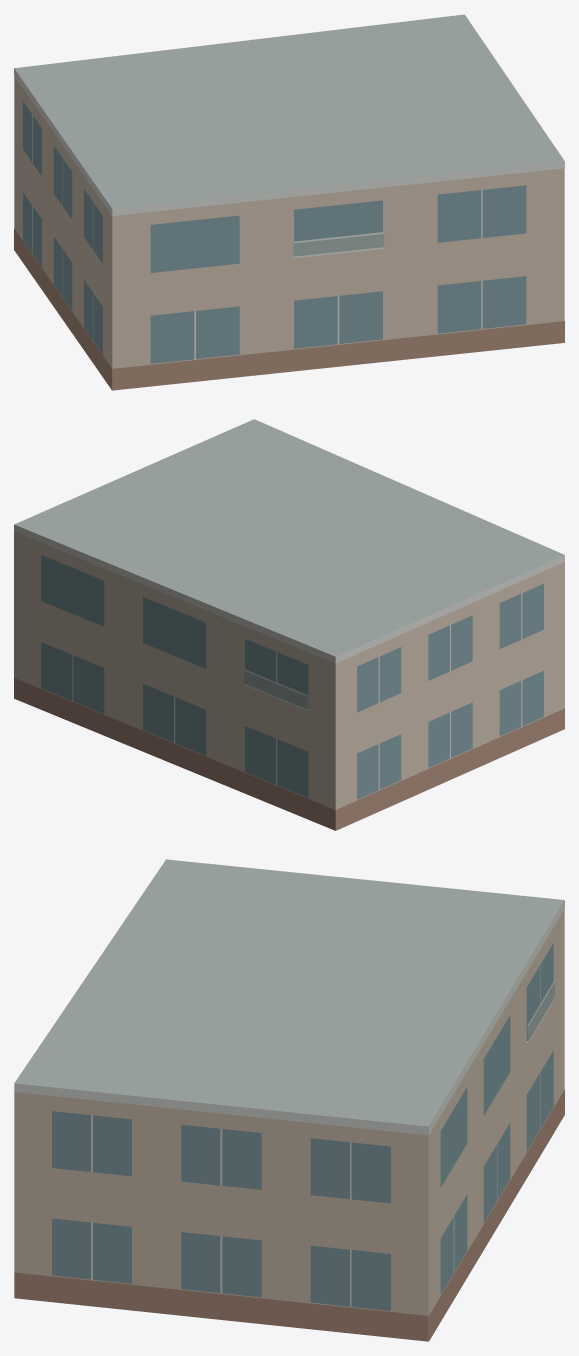
The model's file is survey-upis-32899597.glb.
3 views of the same model, one above another, from view 1: azimuth 30°, elevation 25°; view 2: azimuth 150°, elevation 25°; view 3: azimuth 270°, elevation 25° (orthographic). The views are drawn at different scales.
Visible parts, largest first — view 1: survey-upis-32899597.tmp; view 2: survey-upis-32899597.tmp; view 3: survey-upis-32899597.tmp.
Part boxes in pixels (x1,y1,x2,y2): survey-upis-32899597.tmp: (14,14,564,390); survey-upis-32899597.tmp: (14,419,564,830); survey-upis-32899597.tmp: (14,859,564,1341).
Size of the model in its own units: 16.3 by 6.1 by 14.18.
